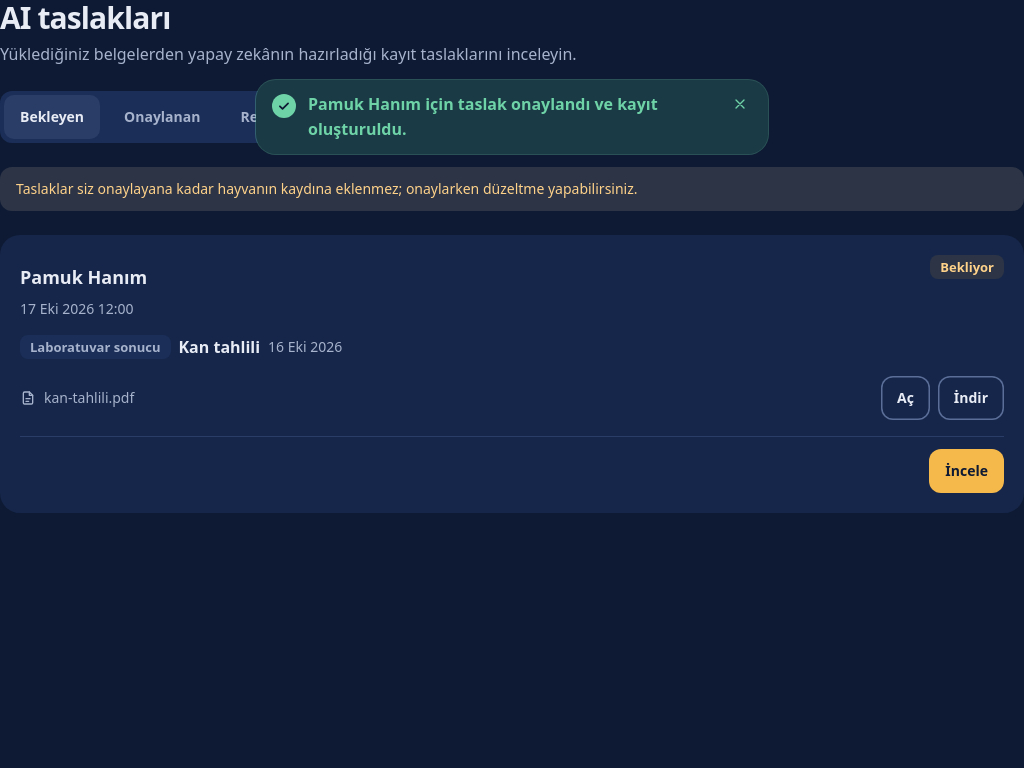
Scenario: DraftsPage › zaten incelenmiş taslakta uyarı gösterir
Step 1. Click the button "İncele" → (967, 471), box left=929, top=449, right=1004, bottom=493
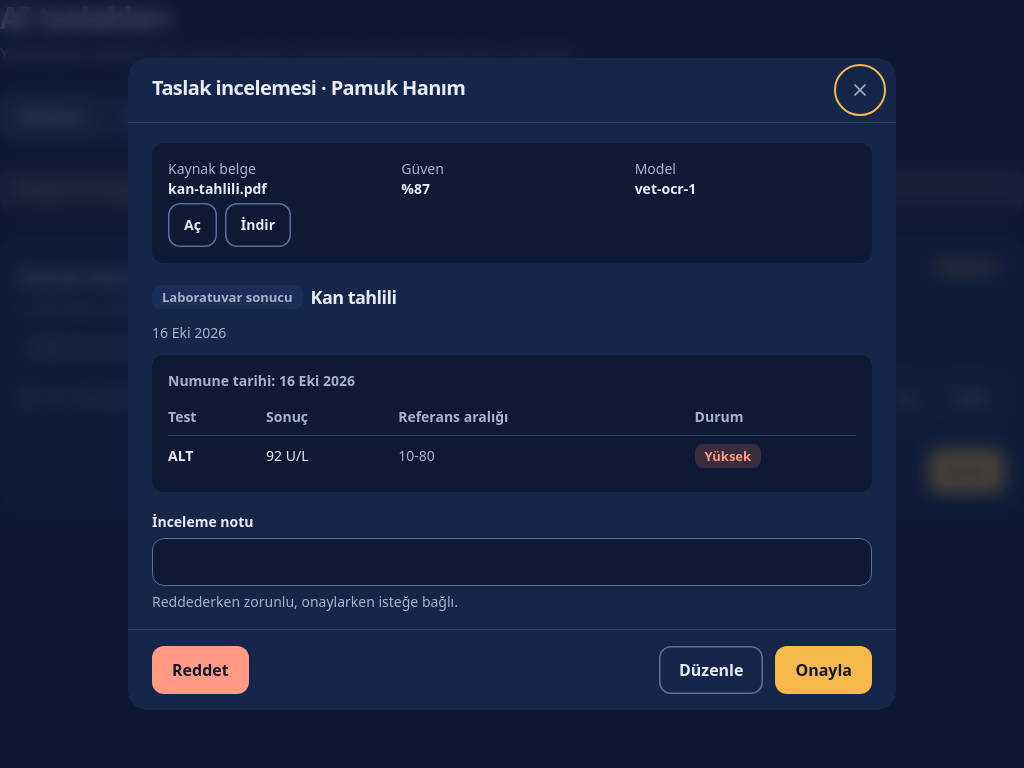
Step 2. Click the button "Onayla" → (824, 670), box left=775, top=646, right=872, bottom=694
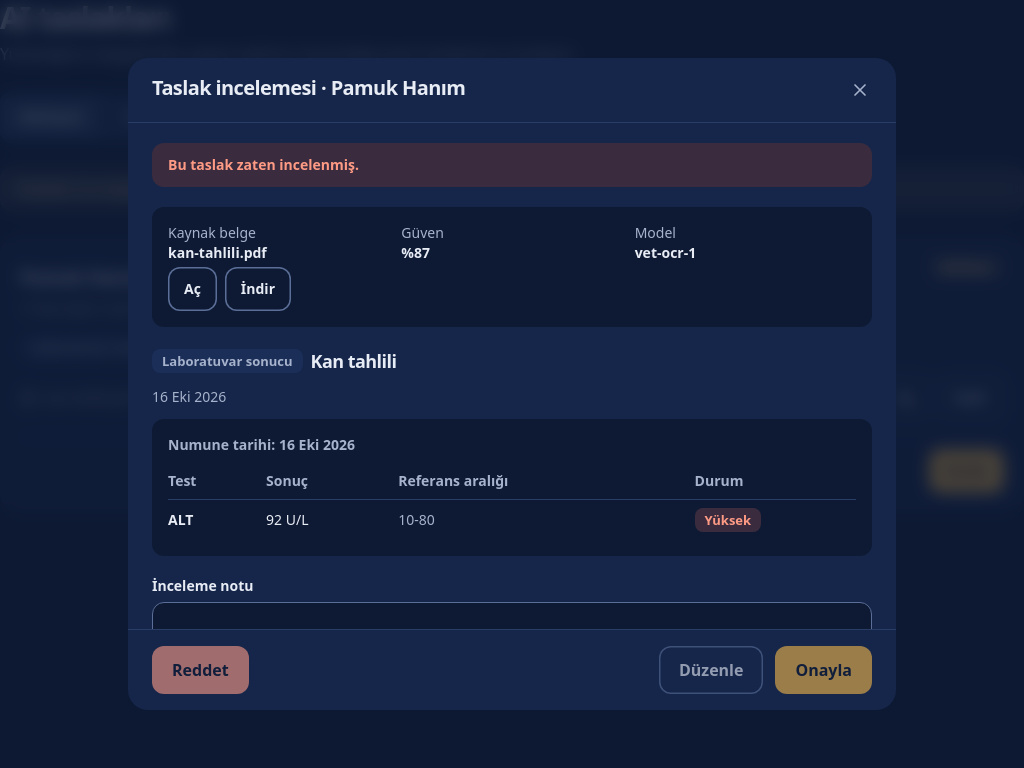
Check: the message reads "Bu taslak zaten incelenmiş.", box left=168, top=155, right=359, bottom=174
